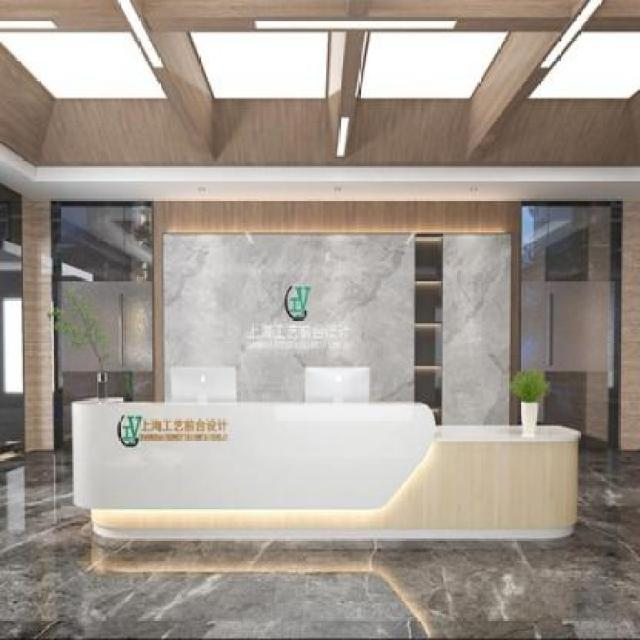frontdesk: (62, 388, 590, 548)
